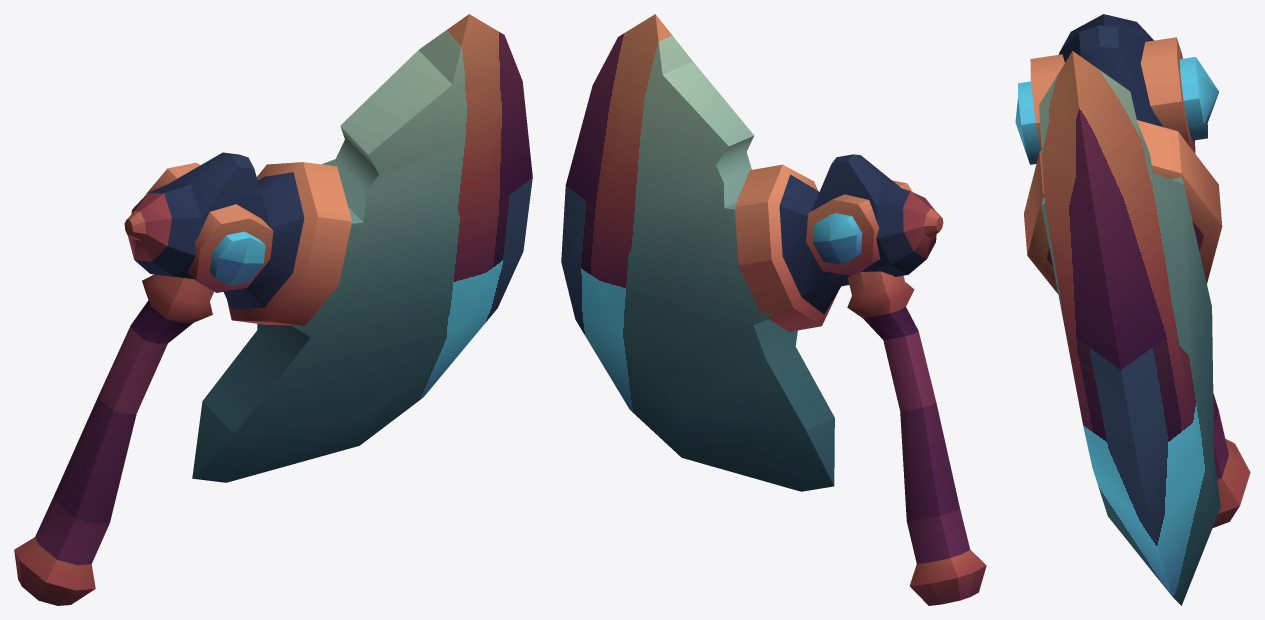
The model's file is Axe.fbx.
3 renders of one model, left to right at view 1: azimuth 30°, elevation 25°; view 2: azimuth 150°, elevation 25°; view 3: azimuth 270°, elevation 25°, orthographic. The views are drawn at different scales.
Parts seen in each view (by area): view 1: pCube55, pCube54; view 2: pCube55, pCube54; view 3: pCube55, pCube54.
Part boxes in pixels (x1,y1,x2,y2): pCube55: (192,14,532,482); pCube54: (14,152,351,605); pCube55: (561,14,834,491); pCube54: (734,154,986,605); pCube55: (1039,51,1220,605); pCube54: (1015,14,1250,527).
Bounding box in the file's own units: 2.94 × 3.09 × 0.918.
